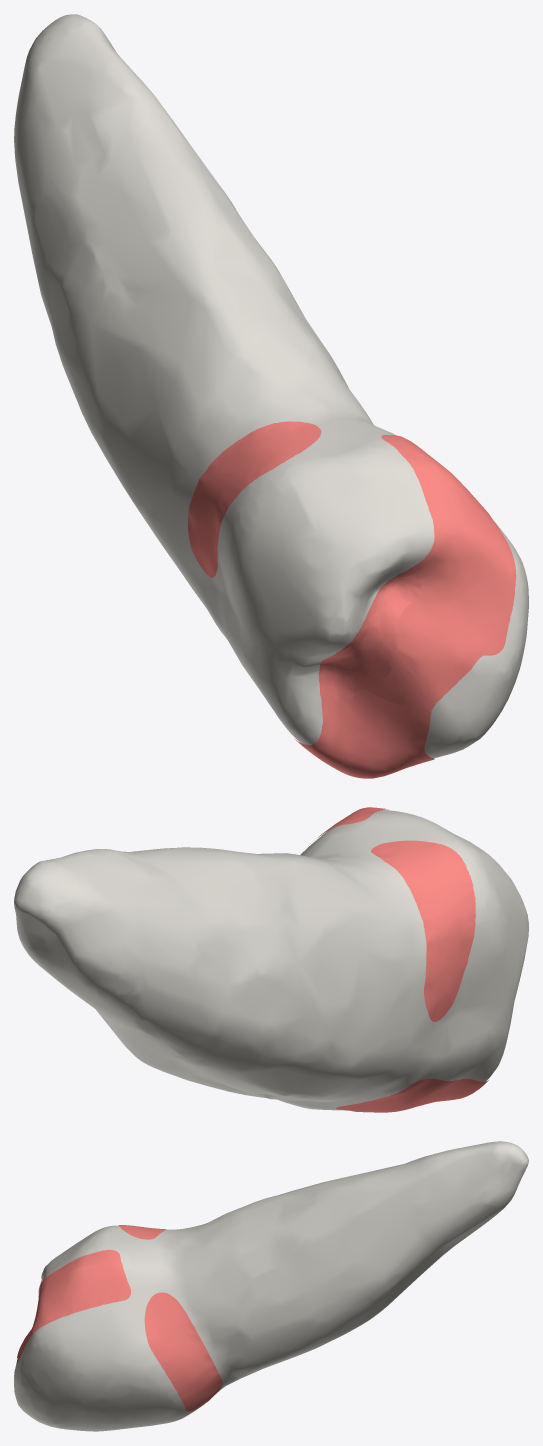
The model's file is tooth_34_FMA55693.glb.
3 renders of one model, top to bottom at view 1: azimuth 30°, elevation 25°; view 2: azimuth 150°, elevation 25°; view 3: azimuth 270°, elevation 25°, orthographic. The views are drawn at different scales.
Visible parts, largest first — view 1: tooth_34, class2_distal, class2_mesial, class5_lingual, class1, class2_mesial_distal; view 2: tooth_34, class5_lingual, class2_mesial, class2_distal; view 3: tooth_34, class5_facial, class2_distal, class5_lingual.
Part boxes in pixels (x1=…): tooth_34: x1=14, y1=14, x2=528, y2=758; class2_distal: x1=325, y1=435, x2=516, y2=706; class2_mesial: x1=295, y1=592, x2=434, y2=778; class5_lingual: x1=188, y1=421, x2=321, y2=577; class1: x1=330, y1=578, x2=421, y2=700; class2_mesial_distal: x1=319, y1=592, x2=451, y2=729; tooth_34: x1=14, y1=809, x2=528, y2=1110; class5_lingual: x1=371, y1=840, x2=475, y2=1021; class2_mesial: x1=336, y1=1078, x2=488, y2=1112; class2_distal: x1=318, y1=807, x2=388, y2=837; tooth_34: x1=14, y1=1141, x2=528, y2=1431; class5_facial: x1=144, y1=1292, x2=222, y2=1411; class2_distal: x1=17, y1=1249, x2=130, y2=1362; class5_lingual: x1=118, y1=1225, x2=165, y2=1239.
Size of the model in its own units: 7.55 by 13.41 by 21.26.
